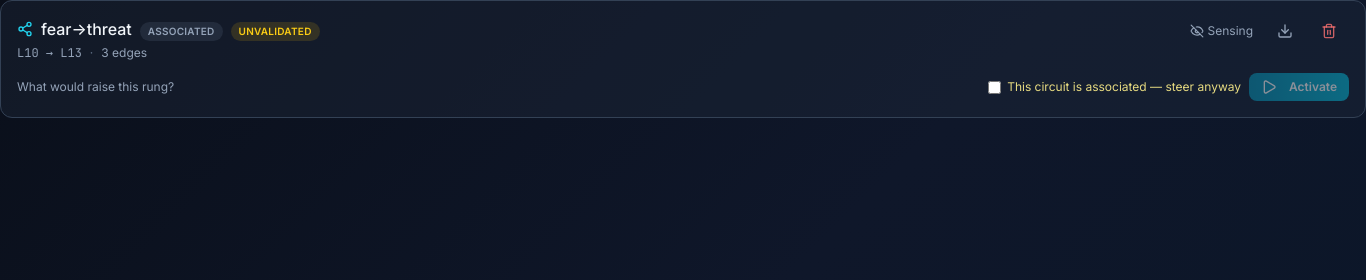
CircuitCard › reveals the next step that would raise the rung
Click the button "What would raise this rung?" at (96, 87), box [17,79,174,95]
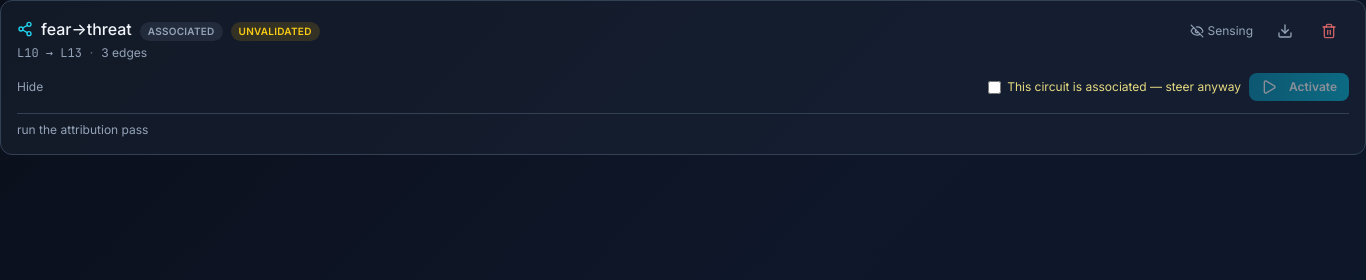
Now the text with test id "next-step" reads "run the attribution pass", box [17,122,148,137]
